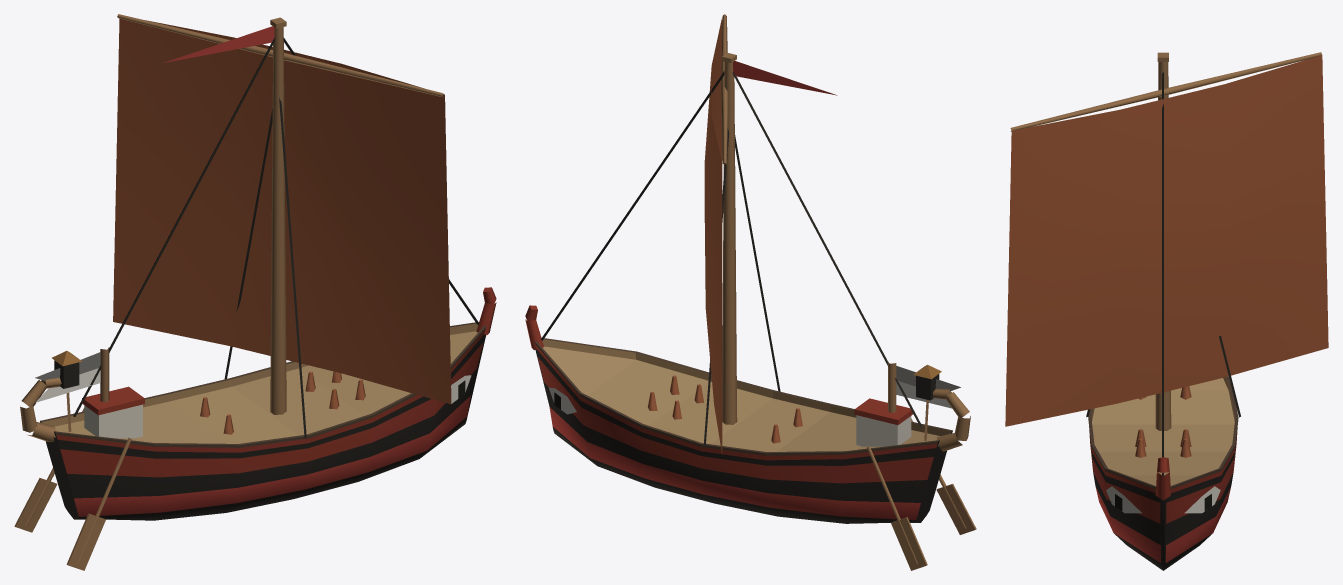
The model's file is hull_eur_greek_boat.glb.
3 renders of one model, left to right at view 1: azimuth 30°, elevation 25°; view 2: azimuth 150°, elevation 25°; view 3: azimuth 270°, elevation 25°, orthographic. The views are drawn at different scales.
Parts seen in each view (by area): view 1: sail_main, hull, deck, mast, rigging, flag, yards; view 2: hull, sail_main, deck, mast, rigging, flag, yards; view 3: sail_main, hull, yards, rigging, mast, deck.
Part boxes in pixels (box(x1,y1,x2,y2)): sail_main: box(113, 18, 451, 404); hull: box(20, 287, 496, 520); deck: box(14, 351, 365, 570); mast: box(100, 17, 286, 414); rigging: box(73, 37, 479, 438); flag: box(35, 26, 274, 402); yards: box(117, 14, 443, 97); hull: box(525, 305, 970, 523); sail_main: box(704, 17, 722, 454); deck: box(648, 364, 976, 570); mast: box(722, 52, 896, 424); rigging: box(541, 71, 921, 446); flag: box(733, 60, 960, 408); yards: box(721, 14, 728, 164); sail_main: box(1005, 55, 1328, 426); hull: box(1088, 376, 1238, 570); yards: box(1010, 52, 1321, 131); rigging: box(1086, 72, 1240, 475); mast: box(1155, 52, 1171, 430); deck: box(1135, 386, 1191, 457).
Bounding box in the file's own units: 8.11 × 7.77 × 5.
